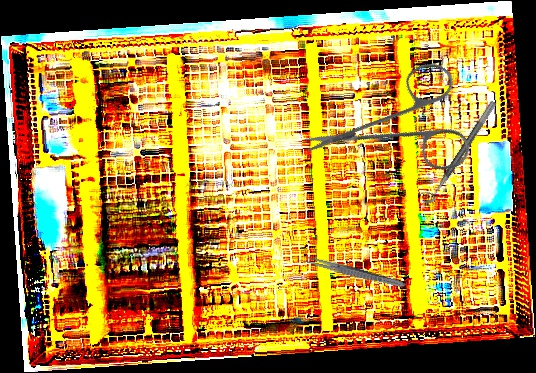Dressing Forceps: (298, 253, 408, 291)
Fixation Ring: (415, 94, 498, 208)
Iris Scissors: (299, 24, 502, 226)
